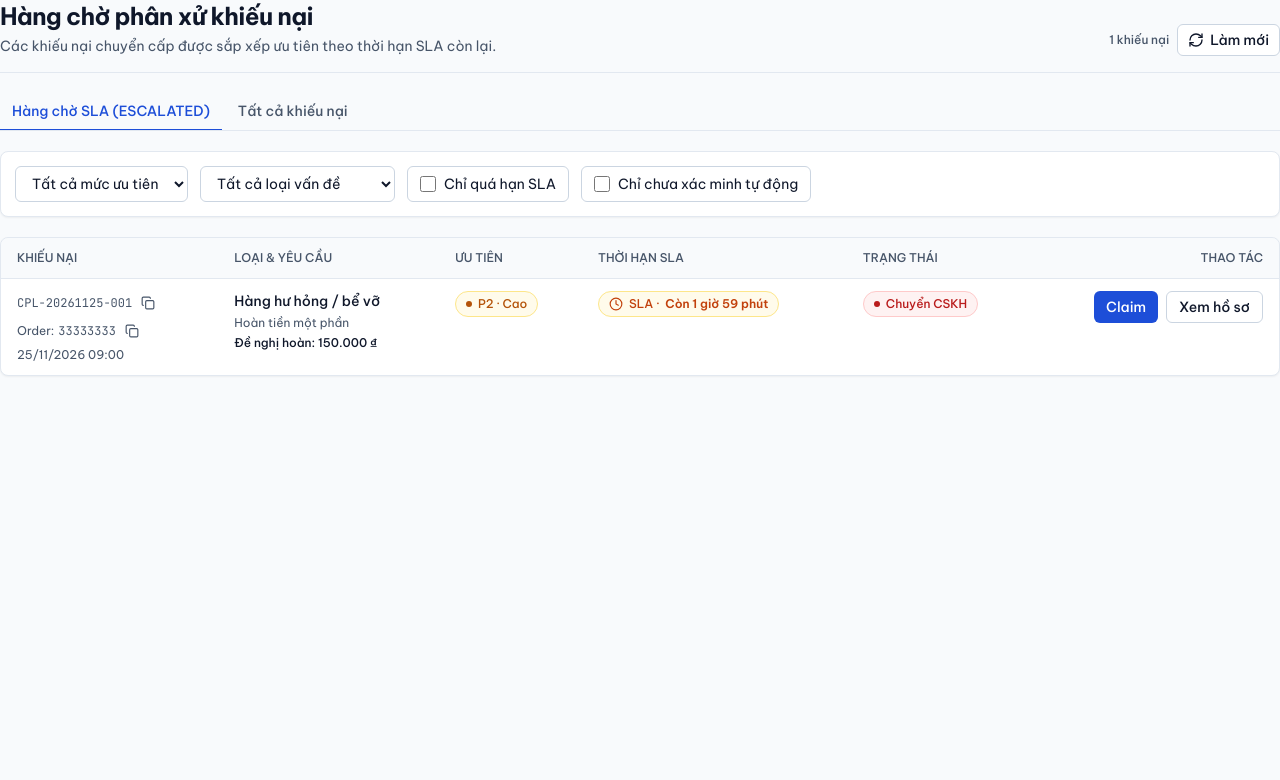
Scenario: T4-12: CSKH SLA Queue (/admin/complaints/queue) › claims a complaint with optimistic version and navigates to the 3-column workspace
The image size is (1280, 780).
Click the button named "Claim: CPL-20261125-001" at (1126, 307), box [1094,291,1158,323]
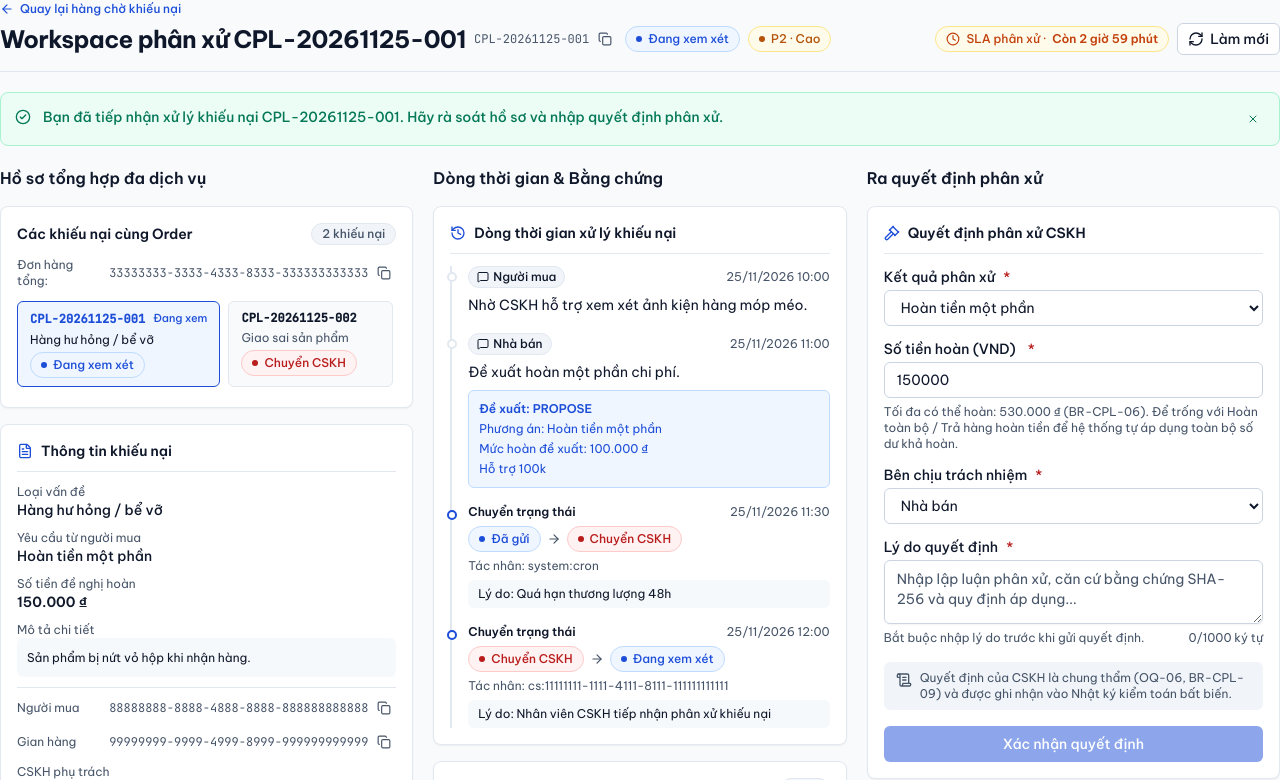
Check: the heading "Workspace phân xử CPL-20261125-001" is shown, box [0,23,466,55]
Check: the text "Bạn đã tiếp nhận xử lý khiếu nại CPL-20261125-001" is shown, box [43,108,723,126]
